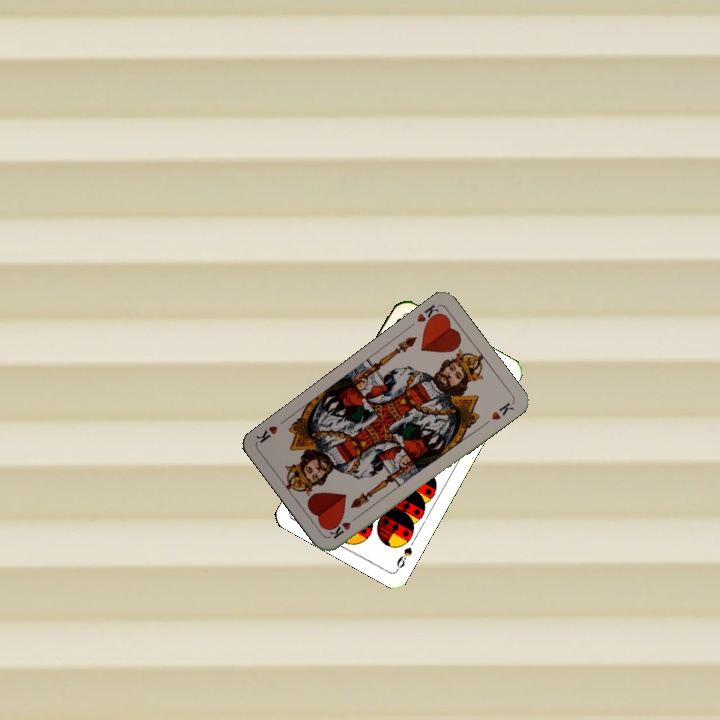HK: (326, 511, 362, 541), (413, 300, 445, 330)
S9: (392, 543, 415, 574)
